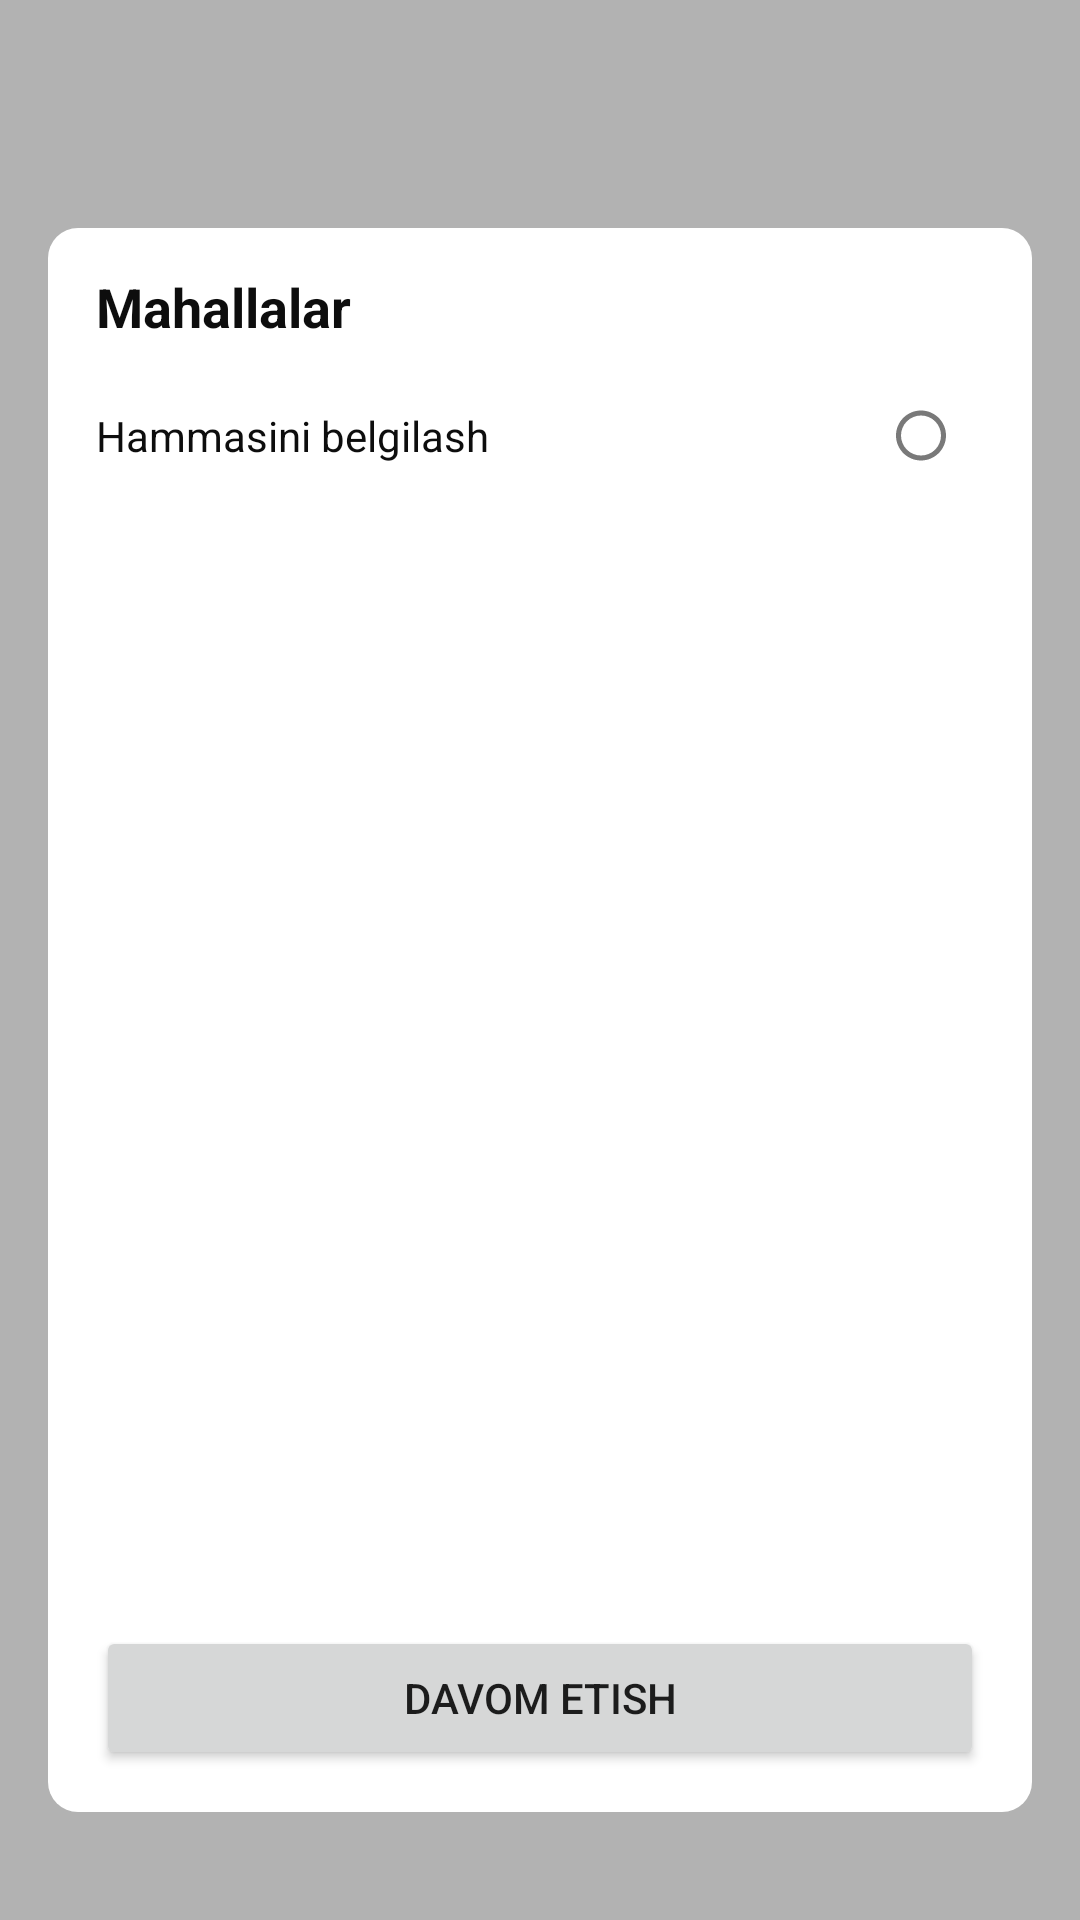

Named icons in this screenshot (1080px×1920px) and their centers, (x,y):
custom checkbox: (921,435)
